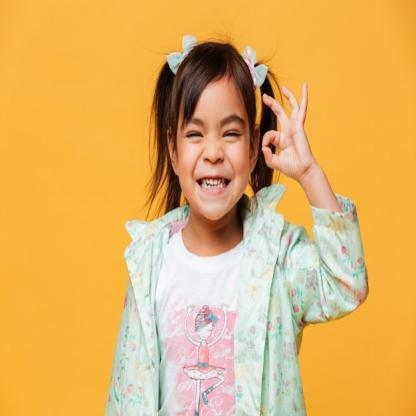ok: (254, 78, 314, 178)
